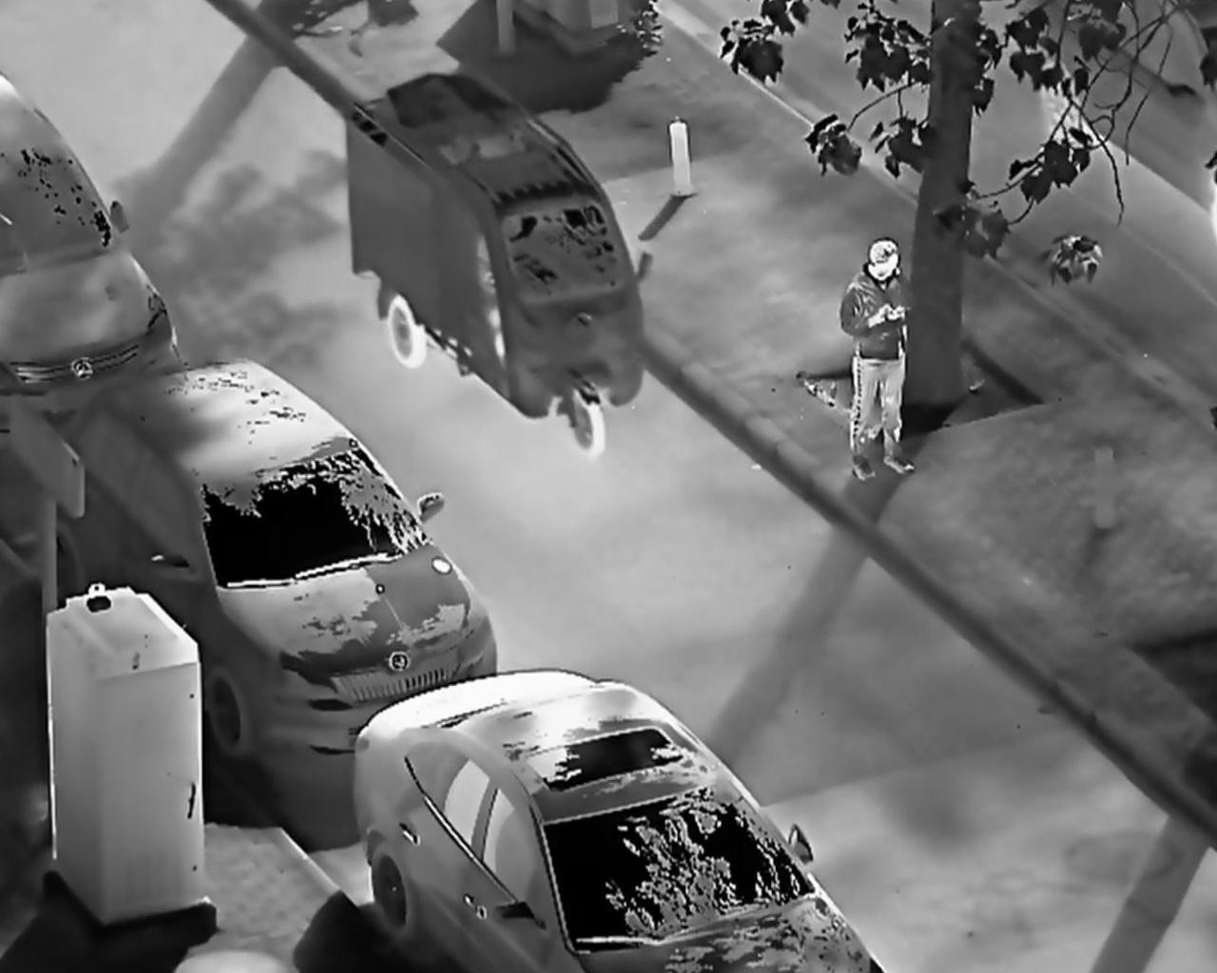person: (840, 236, 918, 485)
